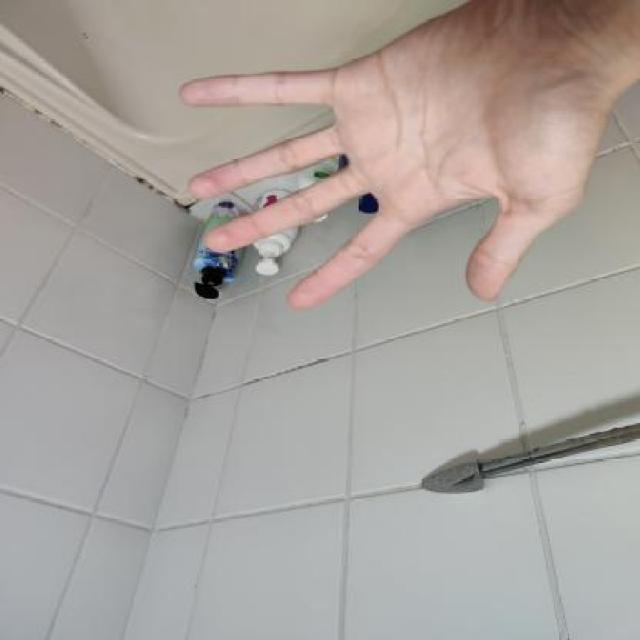bare_hand: (168, 3, 621, 316)
